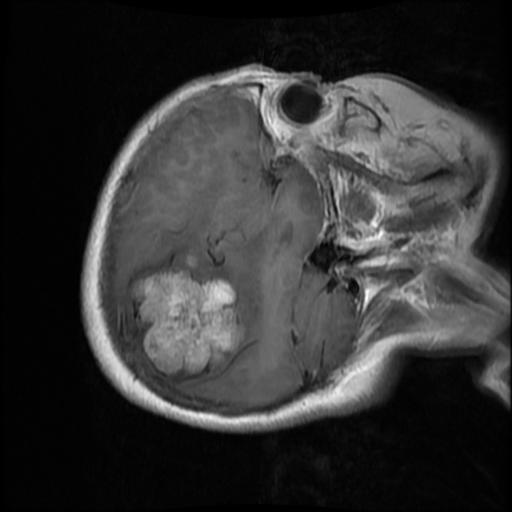meningioma: (128, 268, 238, 378)
